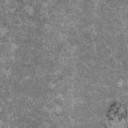oxide scale of plate system: (99, 101, 128, 128)
